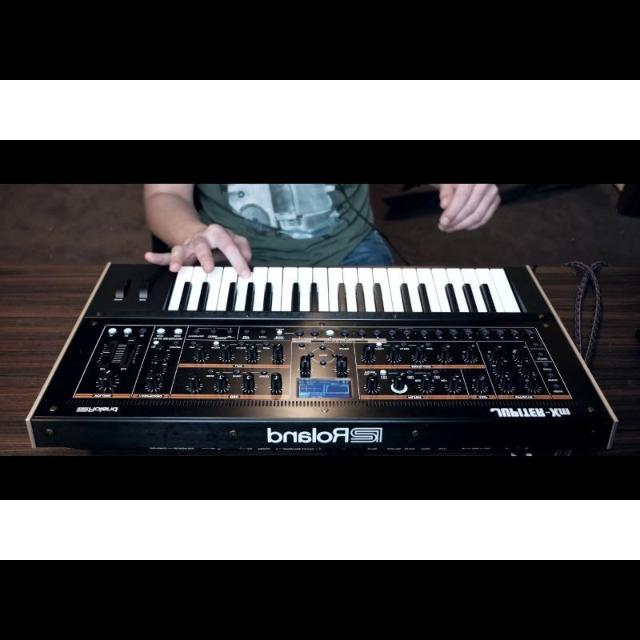Electronic-Keyboard: (21, 252, 618, 472)
